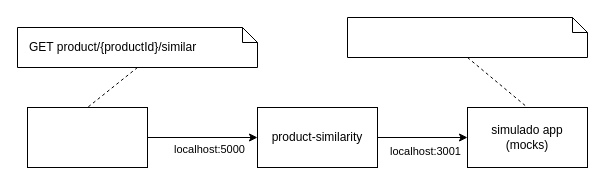
Some shapes in this 605 by 185 pixel diagram are drawn without their labels. Here are the shapes that lost their labels. From the top down, the box of each, then its label:
(346, 16, 588, 58): GET product/{productId}/similarids GET product/{productId}
(26, 106, 148, 168): Test
